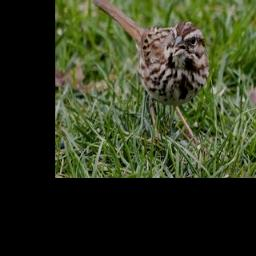Sparrow: (90, 0, 211, 134)
